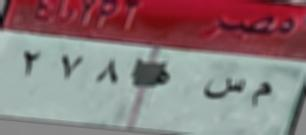2: (13, 44, 48, 86)
7: (53, 52, 88, 87)
8: (90, 57, 127, 92)
meem: (246, 81, 278, 112)
seen: (201, 74, 247, 99)
